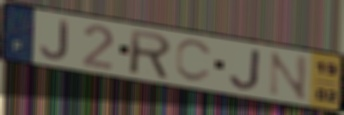2: (80, 24, 115, 72)
C: (173, 39, 216, 85)
J: (228, 47, 263, 92), (39, 18, 70, 62)
N: (266, 50, 310, 103)
R: (128, 27, 174, 82)
